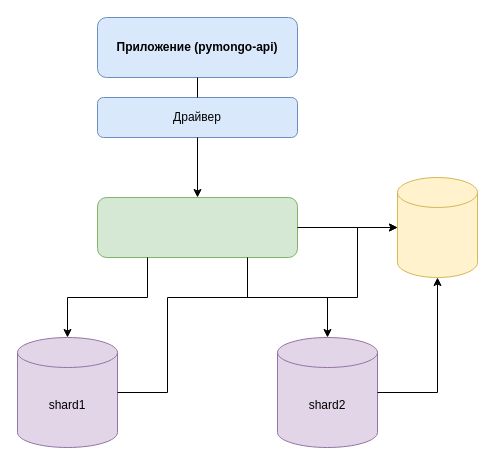
The diagram is 495 pixels wide and 465 high, and some of its shapes have lost their labels. Here are the shapes that lost their labels. From the top down, the centre of each, then its label:
At (197,227): "mongos_router".
At (437,227): "configSrv".
